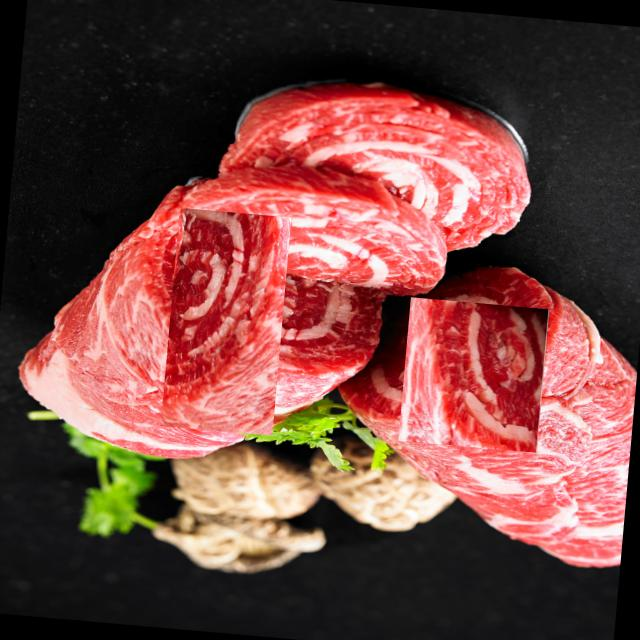beef: (136, 232, 316, 412), (396, 297, 550, 451)
